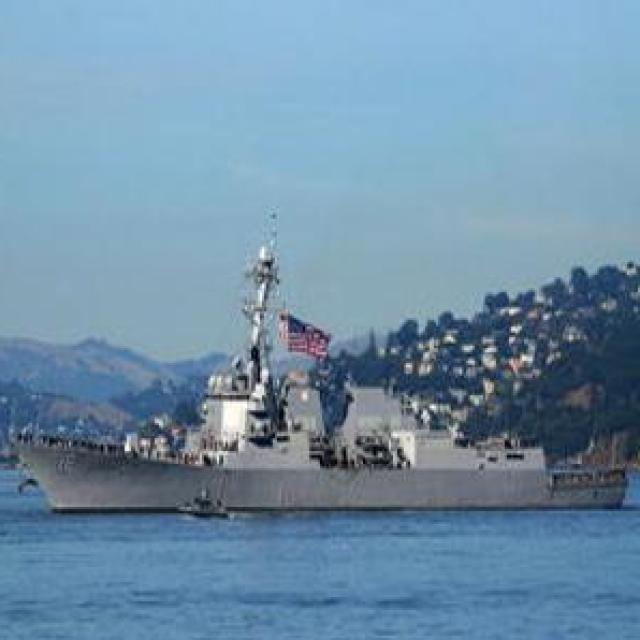navalvessels: (0, 242, 630, 543)
